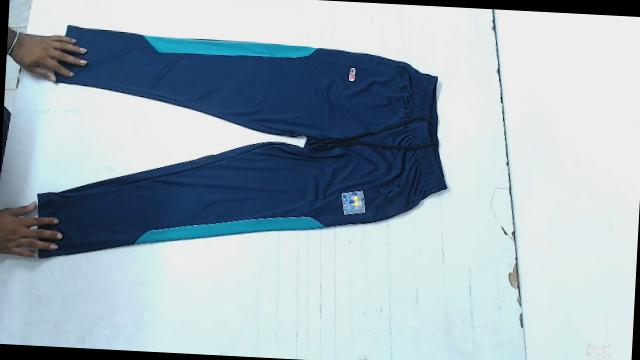new-garment: (38, 25, 446, 257)
